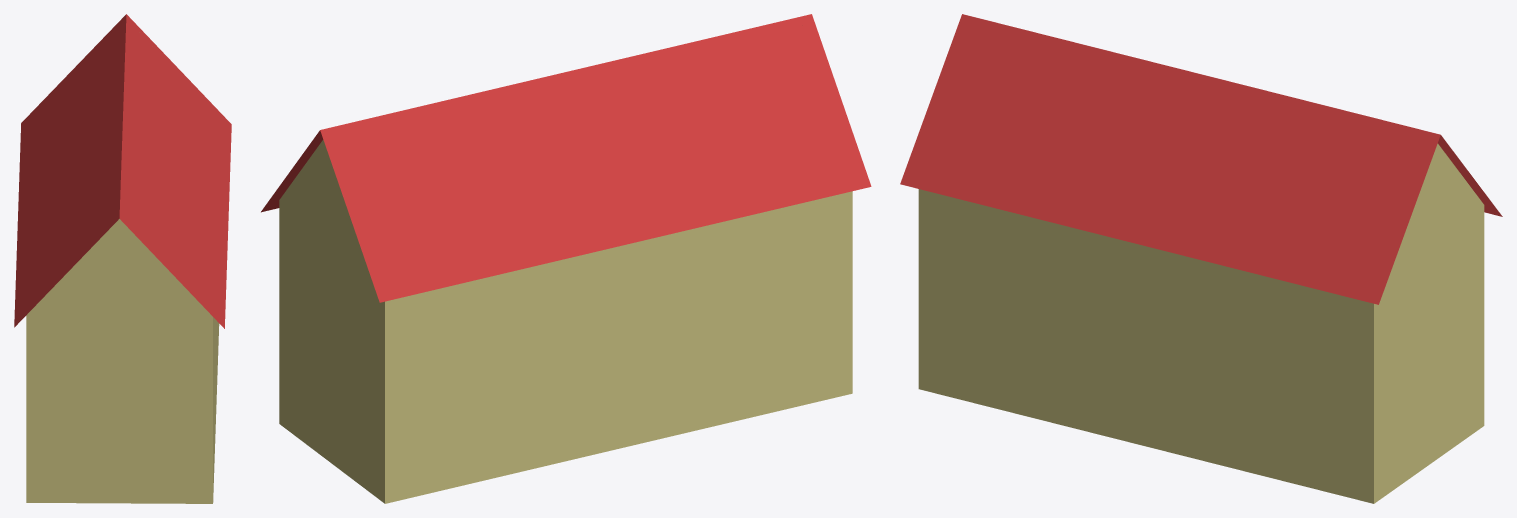
3 renders of one model, left to right at view 1: azimuth 30°, elevation 25°; view 2: azimuth 150°, elevation 25°; view 3: azimuth 270°, elevation 25°, orthographic. The views are drawn at different scales.
Parts seen in each view (by area): view 1: group_5, group_3, group_4; view 2: group_5, group_3, group_4; view 3: group_5, group_3, group_4.
Boxes of the visible parts, bbox=[...] form: group_5: bbox=[26, 219, 219, 503]; group_3: bbox=[14, 14, 231, 328]; group_4: bbox=[86, 14, 224, 328]; group_5: bbox=[279, 140, 852, 503]; group_3: bbox=[315, 15, 871, 302]; group_4: bbox=[261, 14, 819, 277]; group_5: bbox=[918, 143, 1484, 503]; group_3: bbox=[902, 14, 1440, 304]; group_4: bbox=[900, 15, 1502, 229].
Bounding box in the file's own units: 27.09 × 33.08 × 20.18.
